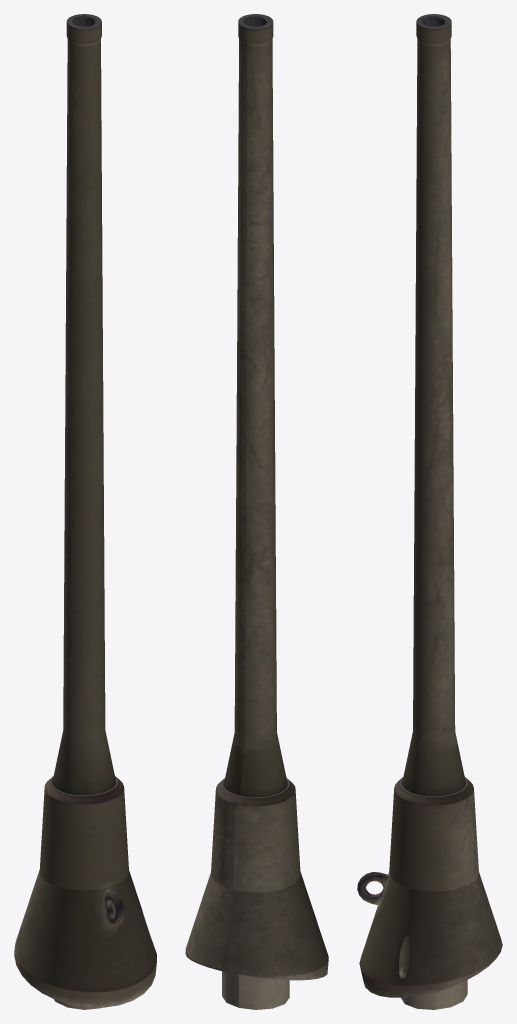
File: Gun_07.glb
3 views of the same model, side by side, from view 1: azimuth 30°, elevation 25°; view 2: azimuth 150°, elevation 25°; view 3: azimuth 270°, elevation 25° (orthographic).
Parts seen in each view (by area): view 1: set_0_group_0; view 2: set_0_group_0; view 3: set_0_group_0.
Boxes of the visible parts, x1=… form: set_0_group_0: x1=14, y1=14, x2=156, y2=1009; set_0_group_0: x1=185, y1=14, x2=328, y2=1009; set_0_group_0: x1=357, y1=14, x2=502, y2=1009.
Bounding box in the file's own units: 0.637 × 4.8 × 0.6474.
1 material, 1 textured.
